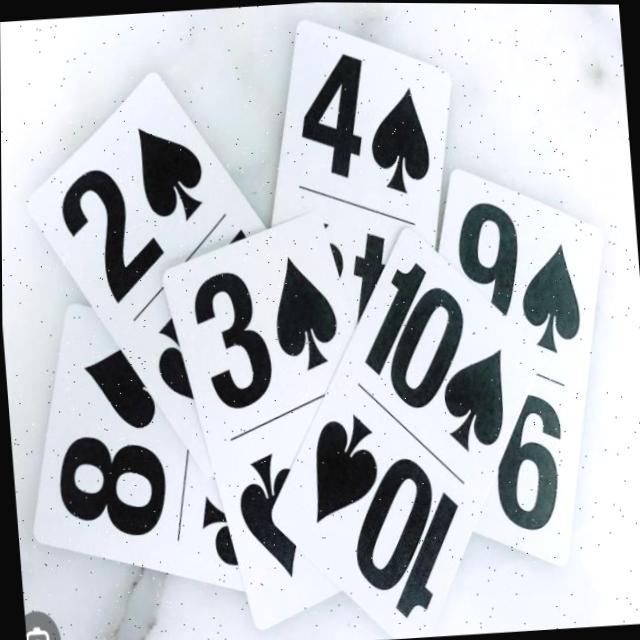Card-10: (269, 227, 539, 638)
Card-2: (25, 72, 264, 475)
Card-3: (162, 216, 352, 628)
Card-4: (270, 19, 448, 327)
Card-8: (34, 306, 244, 593)
Card-9: (437, 168, 601, 562)
